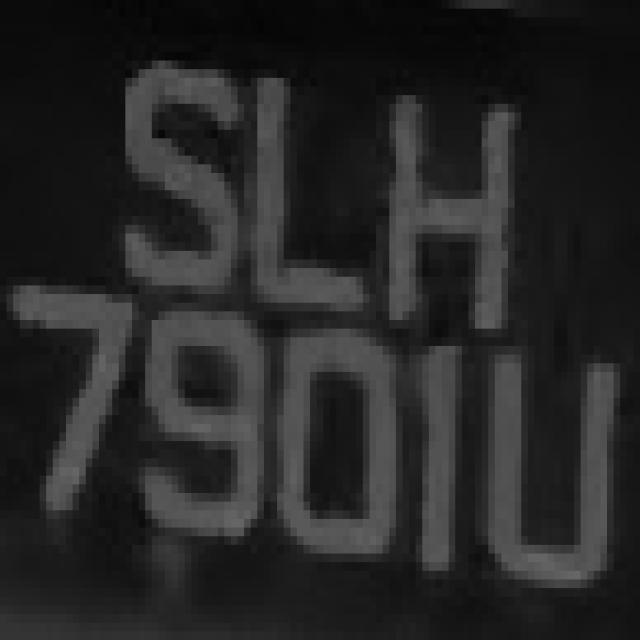0: (250, 312, 416, 554)
1: (396, 277, 475, 614)
7: (7, 234, 138, 562)
9: (132, 251, 264, 571)
H: (376, 43, 528, 346)
L: (250, 26, 370, 363)
S: (99, 9, 244, 337)
U: (475, 303, 627, 631)
